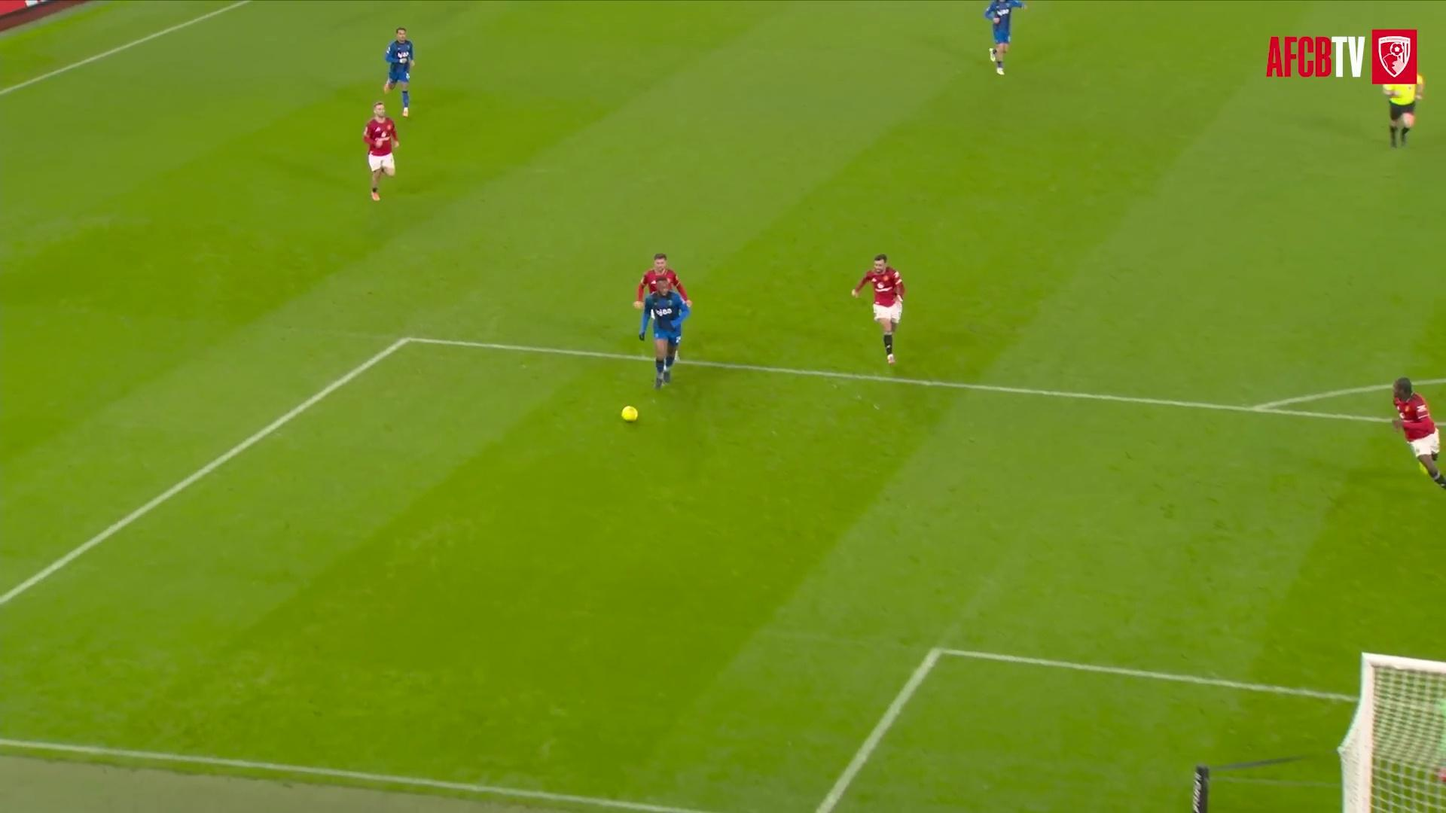football: (620, 404, 642, 427)
player: (1393, 377, 1445, 487), (853, 254, 905, 364), (639, 277, 688, 388), (364, 102, 398, 200), (984, 0, 1026, 75), (634, 253, 691, 308), (383, 28, 413, 117)
referee: (1382, 74, 1423, 147)
